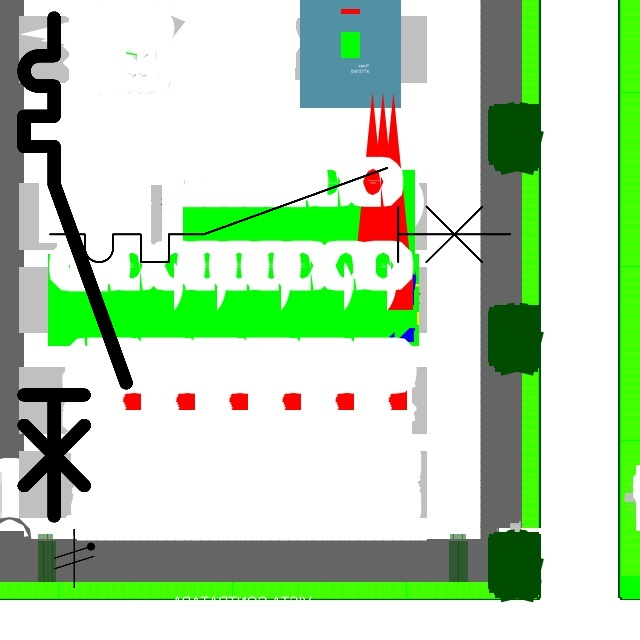interruptor_termomagnetico: (11, 5, 139, 528), (38, 156, 522, 274)
